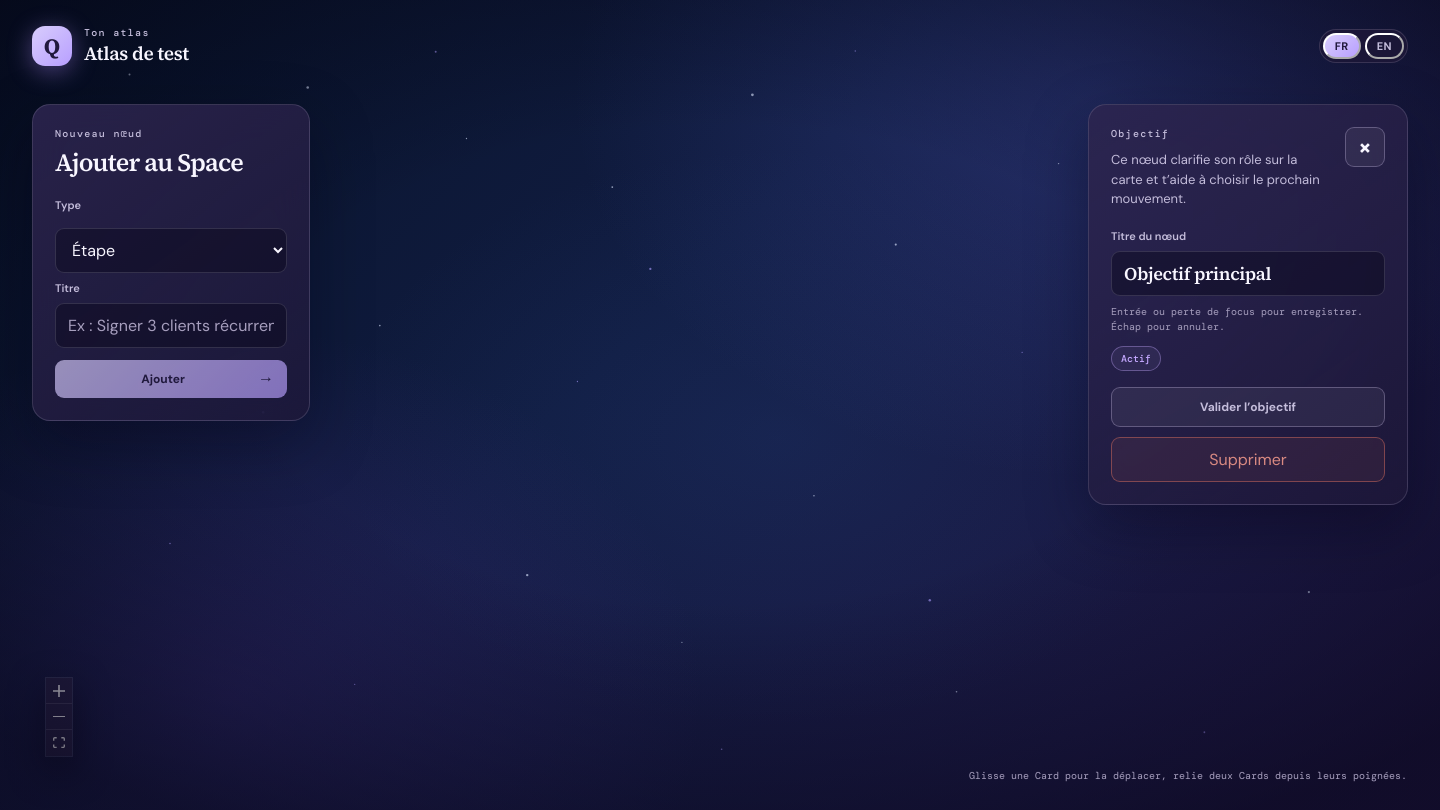
Scenario: SpaceCanvas inspector rename flow › closes the inspector from the close button
Step 1. Click the button named "Fermer l’inspecteur" → (1365, 147), box [1345, 127, 1385, 167]
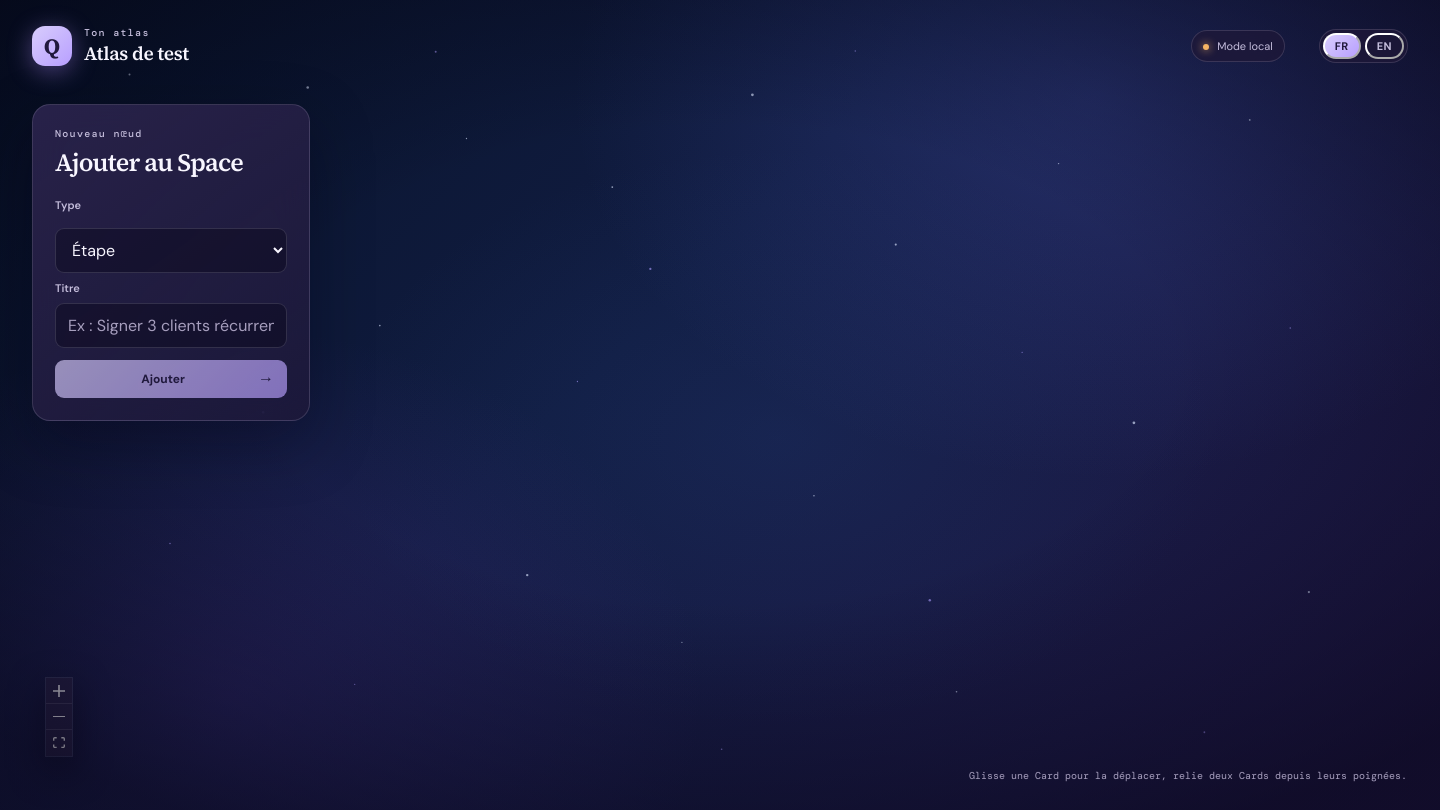
Expected: the label labelled "Titre du nœud" is gone
